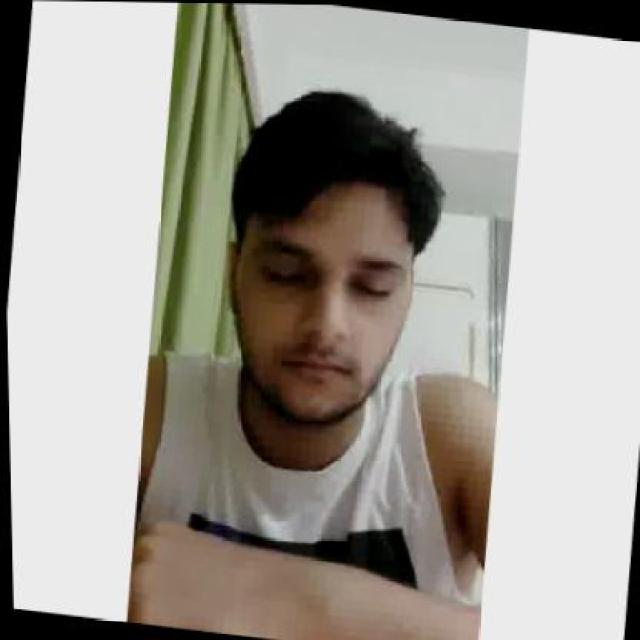inattentif: (202, 71, 436, 442)
